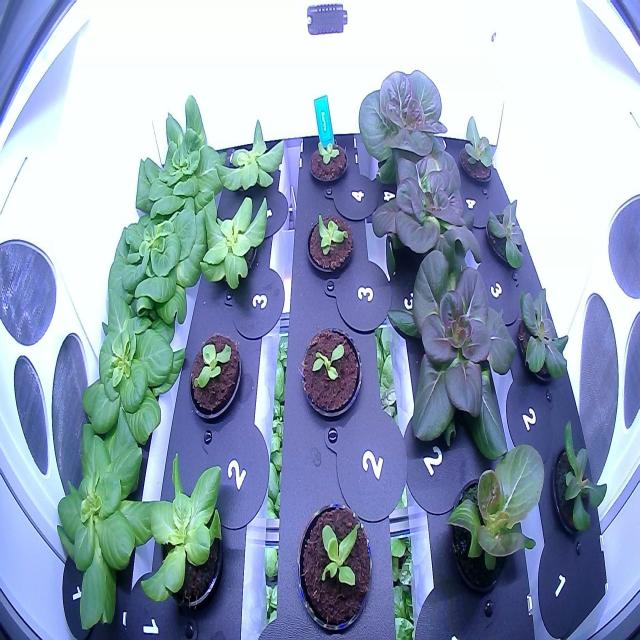young: (378, 230, 524, 472), (54, 400, 164, 634), (73, 280, 188, 465), (364, 142, 492, 294), (440, 424, 547, 602), (94, 187, 220, 336), (135, 444, 237, 623), (354, 52, 456, 217), (131, 86, 225, 230), (294, 487, 376, 638), (544, 412, 610, 554), (296, 317, 368, 433), (198, 185, 276, 292), (509, 274, 574, 396), (212, 111, 289, 198), (184, 327, 244, 424), (478, 185, 534, 280), (302, 202, 360, 288), (452, 107, 502, 193), (304, 125, 352, 197)
